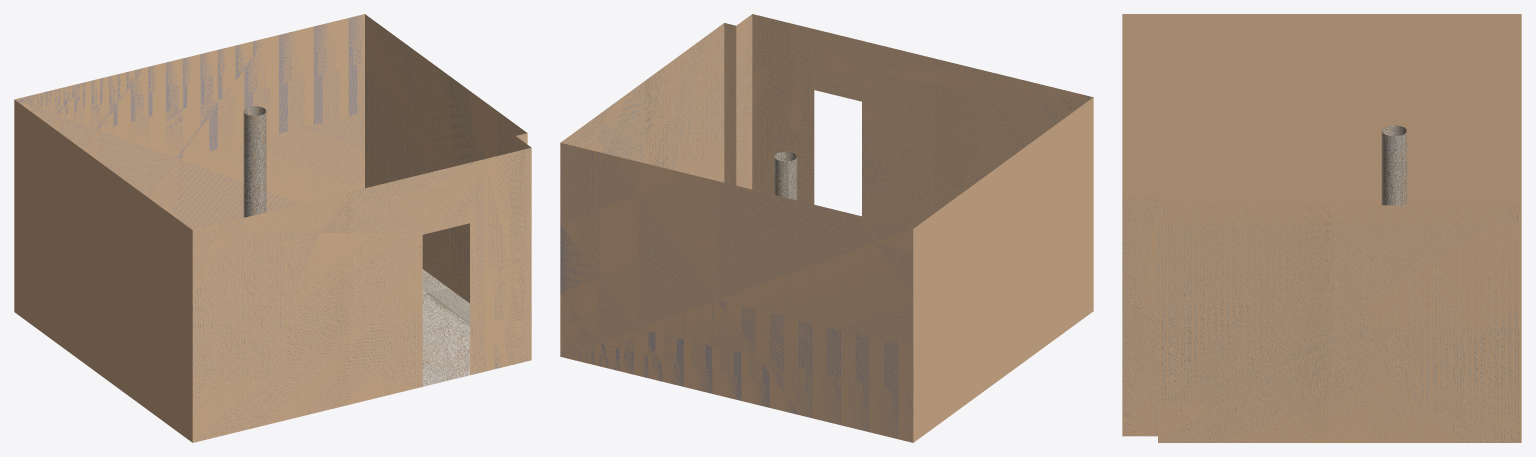
Rendered from AUL020.obj.
3 renders of one model, left to right at view 1: azimuth 30°, elevation 25°; view 2: azimuth 150°, elevation 25°; view 3: azimuth 270°, elevation 25°, orthographic. The views are drawn at different scales.
Parts seen in each view (by area): view 1: Mesh1 AUL020 Model, Mesh2 AUL020 Model; view 2: Mesh1 AUL020 Model, Mesh2 AUL020 Model; view 3: Mesh1 AUL020 Model, Mesh2 AUL020 Model.
Part boxes in pixels (bbox=[...]): Mesh1 AUL020 Model: bbox=[14, 14, 531, 442]; Mesh2 AUL020 Model: bbox=[243, 106, 266, 217]; Mesh1 AUL020 Model: bbox=[560, 14, 1093, 442]; Mesh2 AUL020 Model: bbox=[774, 151, 797, 200]; Mesh1 AUL020 Model: bbox=[1122, 14, 1521, 442]; Mesh2 AUL020 Model: bbox=[1381, 125, 1406, 205].
Size of the model in its own units: 6.21 by 3.85 by 5.48.
Materials: 5 (2 with a texture image).
